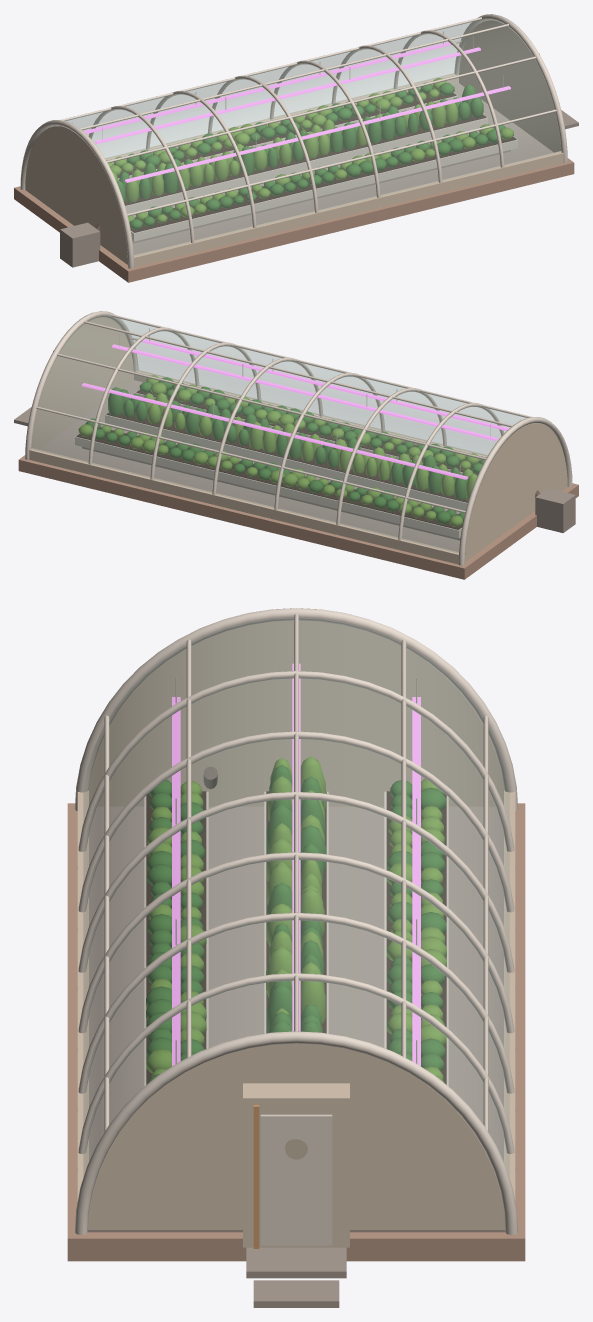
File: A01_arched_greenhouse_14m.glb
3 views of the same model, one above another, from view 1: azimuth 30°, elevation 25°; view 2: azimuth 150°, elevation 25°; view 3: azimuth 270°, elevation 25° (orthographic). The views are drawn at different scales.
Visible parts, largest first — view 1: glazing, rib, end_wall, floor, foundation, grow_light; view 2: glazing, rib, end_wall, floor, foundation, grow_light; view 3: glazing, rib, end_wall, floor, foundation, grow_light.
Part boxes in pixels (x1,y1,x2,y2): glazing: [66, 18, 561, 256]; rib: [20, 14, 567, 268]; end_wall: [25, 20, 561, 264]; floor: [60, 83, 578, 267]; foundation: [14, 158, 574, 282]; grow_light: [83, 42, 510, 182]; glazing: [31, 315, 526, 553]; rib: [25, 311, 572, 565]; end_wall: [31, 317, 567, 561]; floor: [14, 380, 575, 551]; foundation: [18, 455, 578, 579]; grow_light: [82, 339, 509, 479]; glazing: [83, 618, 509, 1176]; rib: [74, 608, 518, 1248]; end_wall: [87, 620, 505, 1229]; floor: [87, 806, 505, 1307]; foundation: [67, 803, 525, 1261]; grow_light: [172, 663, 420, 1066].
Bounding box in the file's own units: 16.9 × 3.45 × 6.4.
